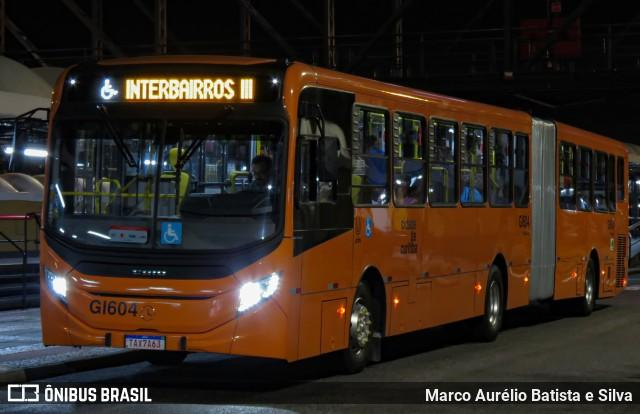INTERBAIRROS III: (120, 76, 258, 104)
